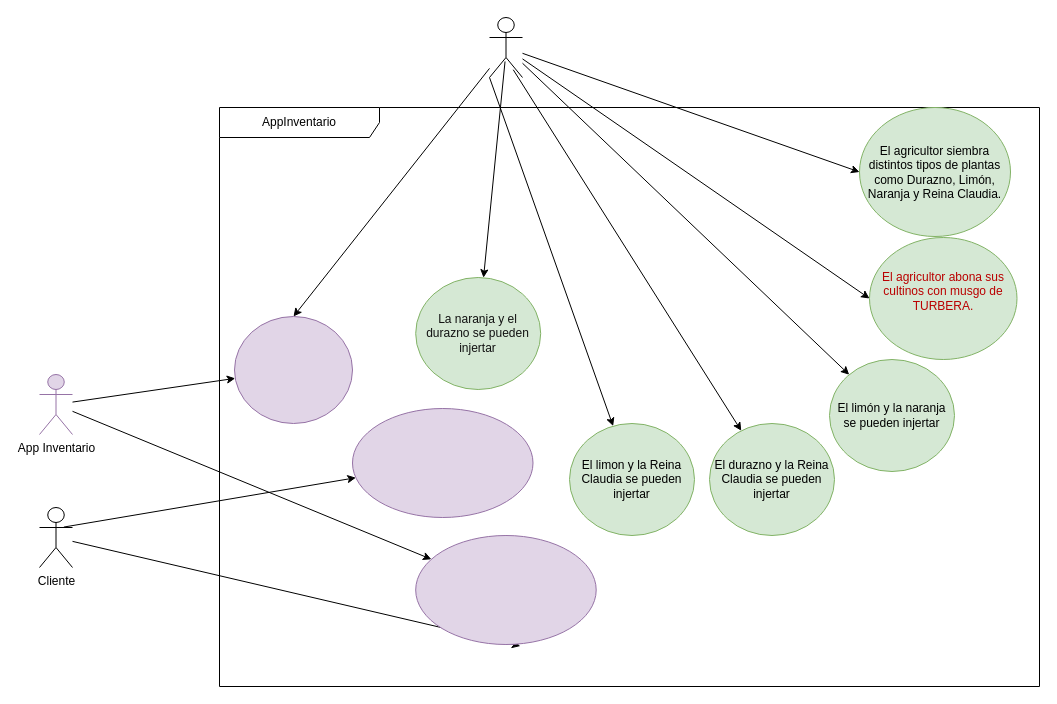
Some shapes in this 1057 by 704 pixel diagram are drawn without their labels. The centre of each missing label's shape, as x and y in pixels:
Agricultor: point (505, 47)
El agricultor registra su cosecha en el inventario: point (293, 370)
El cliente retira la cosecha que no esta podrida: point (442, 463)
El cliente visualiza la cosecha en el inventario: point (505, 589)
